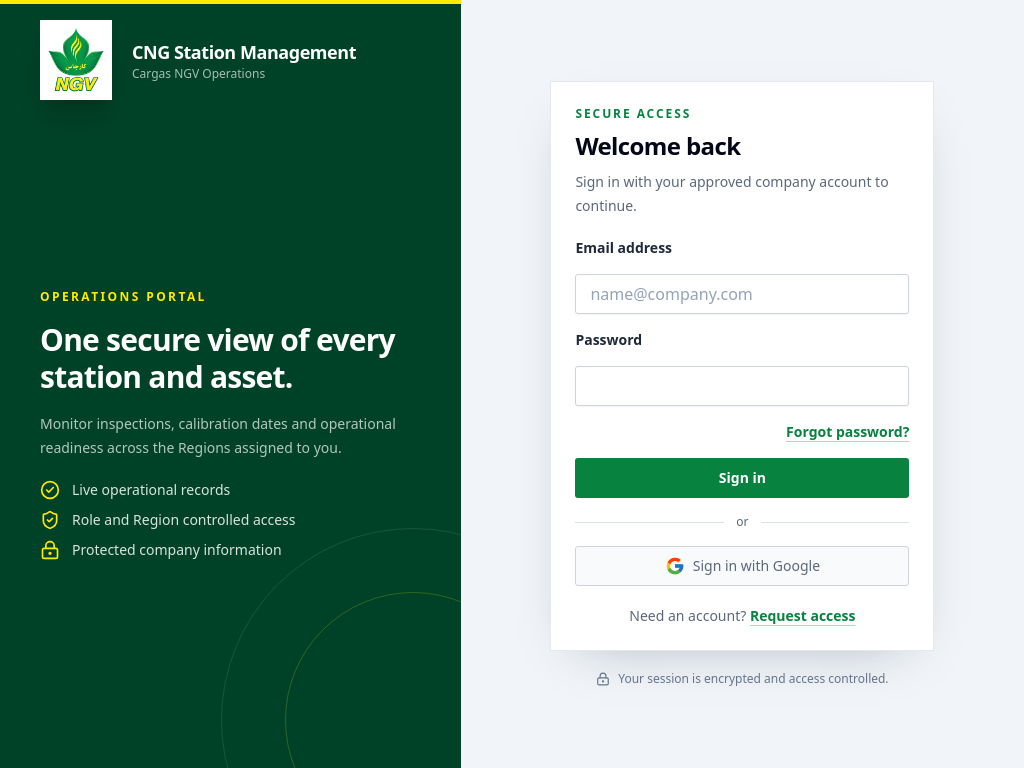
Scenario: Google sign-in › GOOGLE-2 reports a failure to start without leaking the provider error
This screenshot has width=1024, height=768.
Step 1. Click the button "Sign in with Google" → (742, 566), box 575,546 -> 909,586
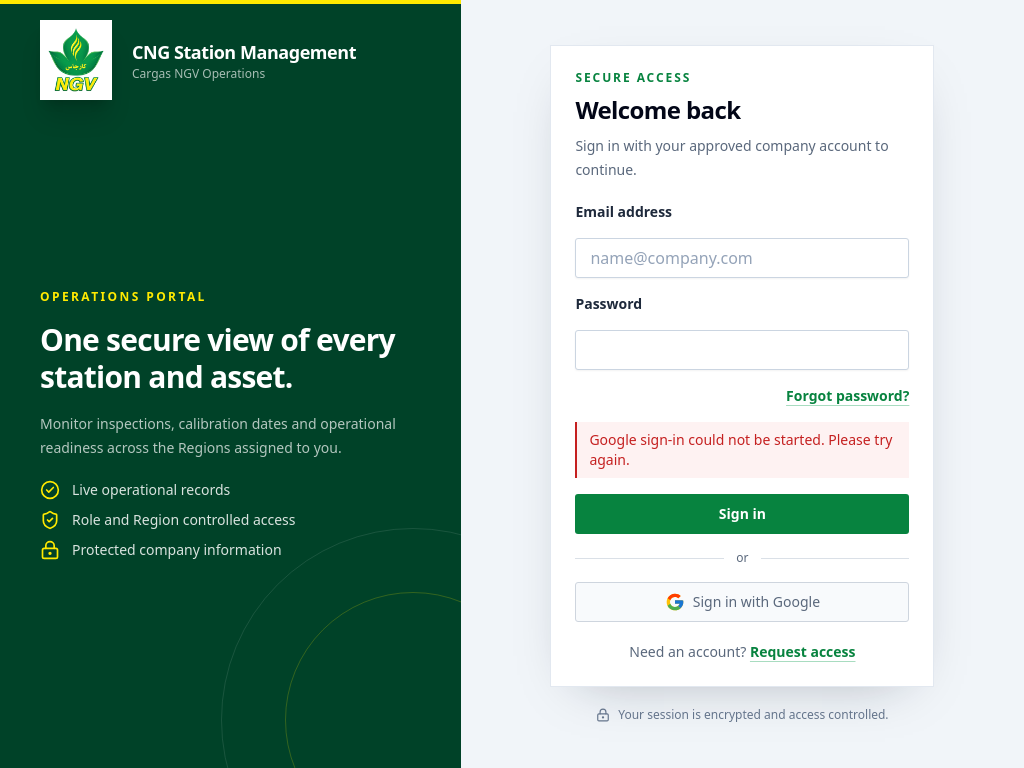
Check: the message shows "Google sign-in could not be started", box 589,430 -> 892,469
